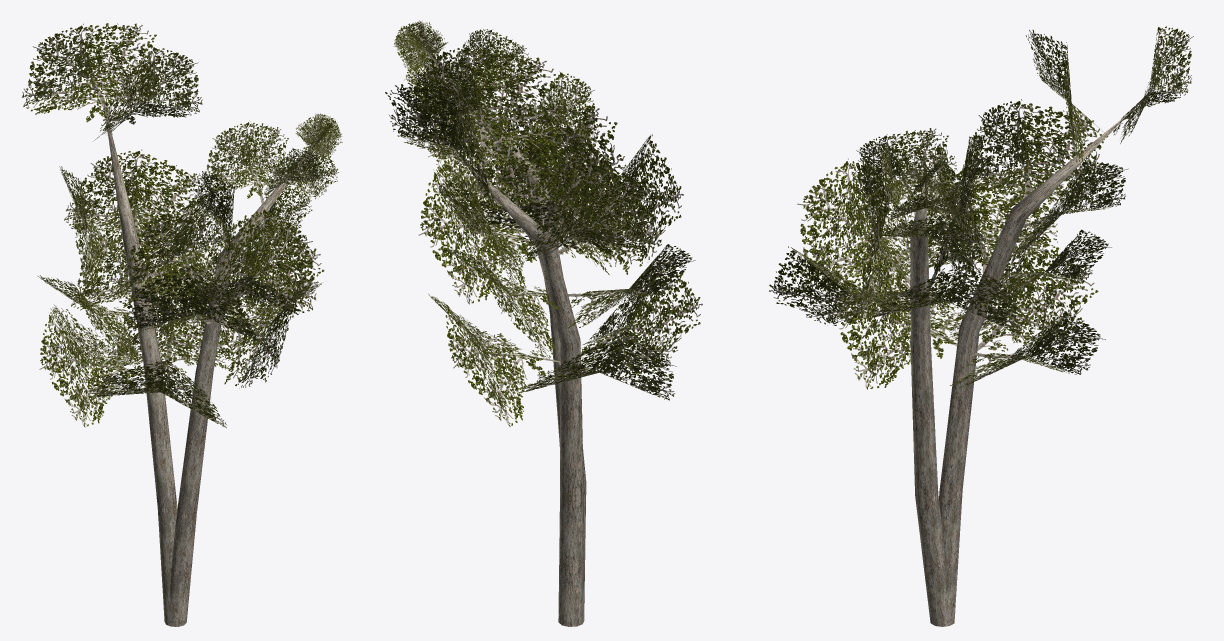
Rendered from Sharp_Poplar08.gltf.
3 views of the same model, side by side, from view 1: azimuth 30°, elevation 25°; view 2: azimuth 150°, elevation 25°; view 3: azimuth 270°, elevation 25° (orthographic). The views are drawn at different scales.
Parts seen in each view (by area): view 1: Efol, Bfol, G, Trunk, Afol, Ffol; view 2: Efol, Bfol, G, Afol, Trunk, Ffol; view 3: Bfol, Trunk, Efol, Afol, G, Ffol.
Part boxes in pixels (left/top/right/bottom): Efol: left=59, top=149, right=316, bottom=315; Bfol: left=37, top=220, right=324, bottom=388; G: left=21, top=23, right=342, bottom=201; Trunk: left=103, top=99, right=315, bottom=626; Afol: left=39, top=271, right=248, bottom=427; Ffol: left=194, top=121, right=312, bottom=263; Efol: left=435, top=102, right=658, bottom=288; Bfol: left=418, top=133, right=695, bottom=358; G: left=385, top=20, right=563, bottom=207; Afol: left=428, top=254, right=702, bottom=426; Trunk: left=423, top=47, right=586, bottom=626; Ffol: left=408, top=60, right=598, bottom=201; Bfol: left=769, top=158, right=1111, bottom=331; Trunk: left=910, top=109, right=1133, bottom=626; Efol: left=858, top=99, right=1128, bottom=321; Afol: left=830, top=238, right=1105, bottom=389; G: left=876, top=26, right=1193, bottom=219; Ffol: left=855, top=128, right=985, bottom=267.
Bounding box in the file's own units: 22.79 × 39.32 × 27.41.
2 materials, 2 textured.
